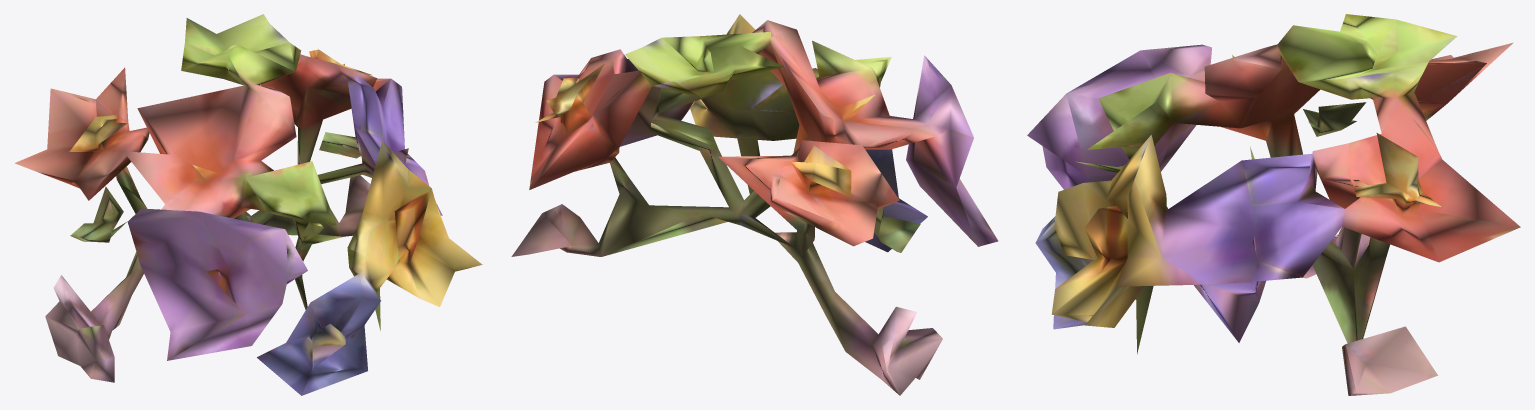
File: flowers.glb
3 views of the same model, side by side, from view 1: azimuth 30°, elevation 25°; view 2: azimuth 150°, elevation 25°; view 3: azimuth 270°, elevation 25° (orthographic). The views are drawn at different scales.
Parts seen in each view (by area): view 1: tripo_node_d5c07d5e-5ae7-4775-aaa1-bfacec3c4548; view 2: tripo_node_d5c07d5e-5ae7-4775-aaa1-bfacec3c4548; view 3: tripo_node_d5c07d5e-5ae7-4775-aaa1-bfacec3c4548.
Boxes of the visible parts, x1=… form: tripo_node_d5c07d5e-5ae7-4775-aaa1-bfacec3c4548: x1=15, y1=14, x2=482, y2=395; tripo_node_d5c07d5e-5ae7-4775-aaa1-bfacec3c4548: x1=511, y1=14, x2=998, y2=395; tripo_node_d5c07d5e-5ae7-4775-aaa1-bfacec3c4548: x1=1027, y1=14, x2=1520, y2=395.
Bounding box in the file's own units: 0.8375 × 0.6469 × 0.8607.
1 material, 1 textured.
